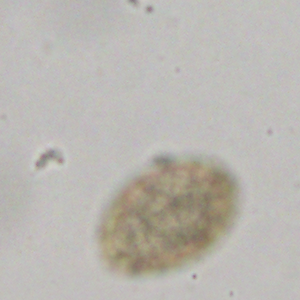Fasciola_hepatica_egg: (96, 153, 242, 278)
